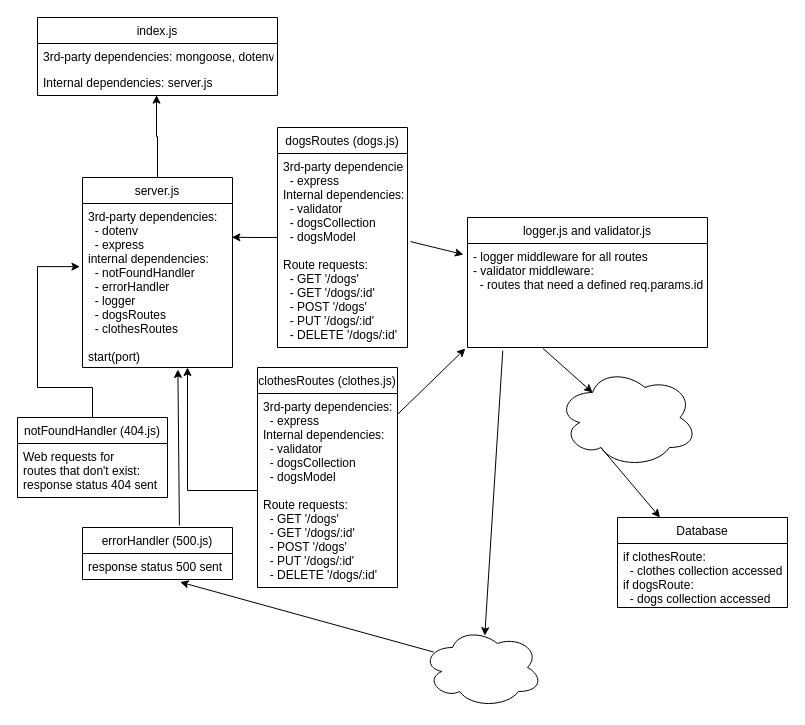
Some shapes in this 805 by 725 pixel diagram are drawn without their labels. The shapes that lost their labels are listed below. From the top down, each one's centre as x and y in pixels, then its label:
At point 627,417: "if validator approves request (or not being used):".
At point 482,667: "if validator rejects request:".
